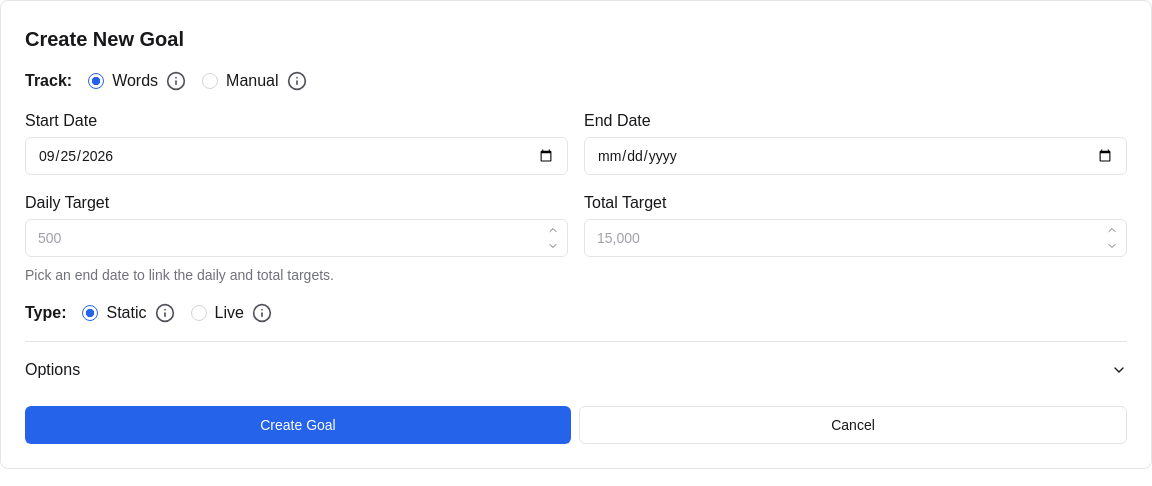
CreateGoalForm › recomputes the daily target when the user edits the total
In the date field labelled "Start Date": (296, 156) [26, 138, 567, 174], type "2026-06-01"
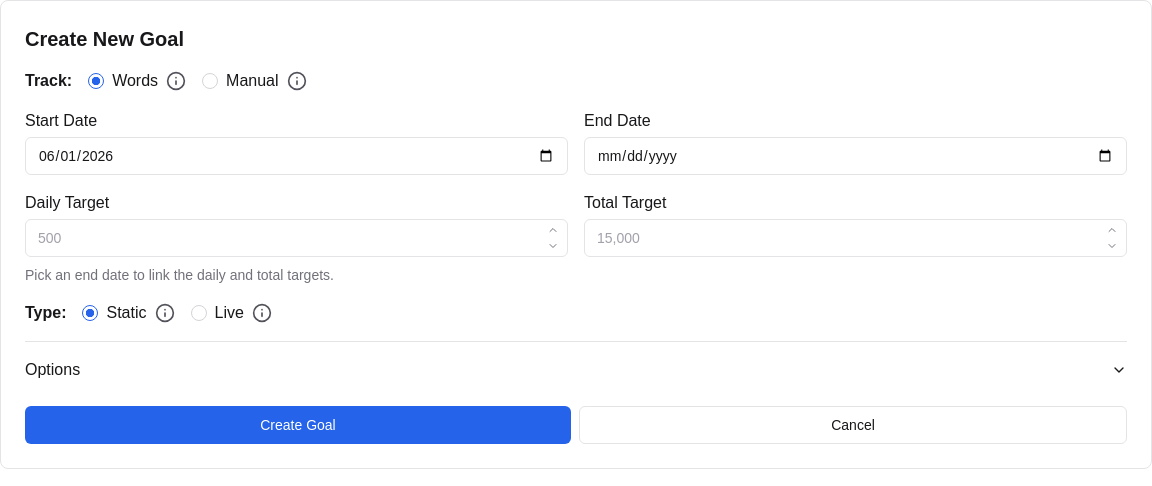
In the date field labelled "End Date": (856, 156) [585, 138, 1126, 174], type "2026-06-10"
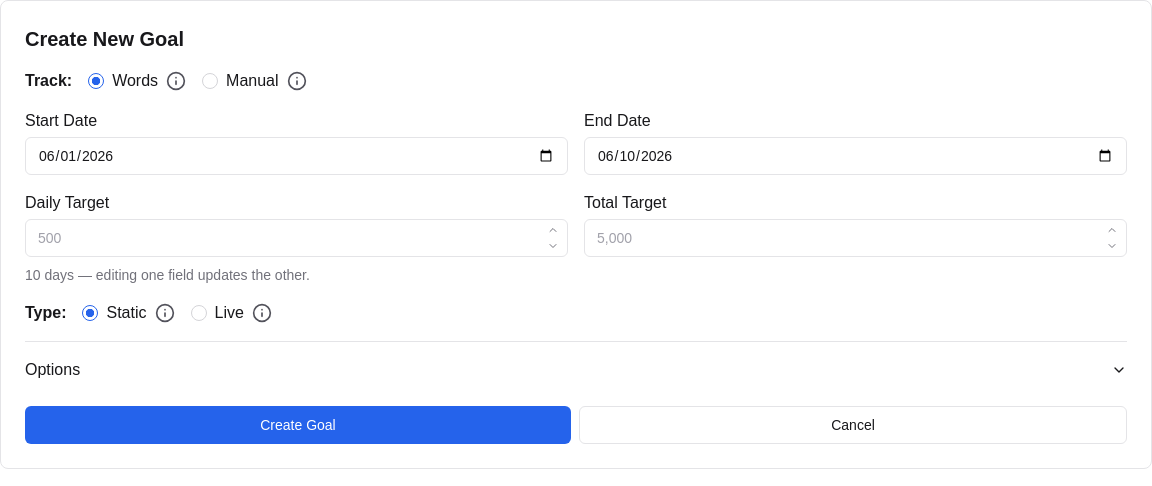
In the field labelled "Total Target": (856, 238) [585, 220, 1126, 256], type "1000"
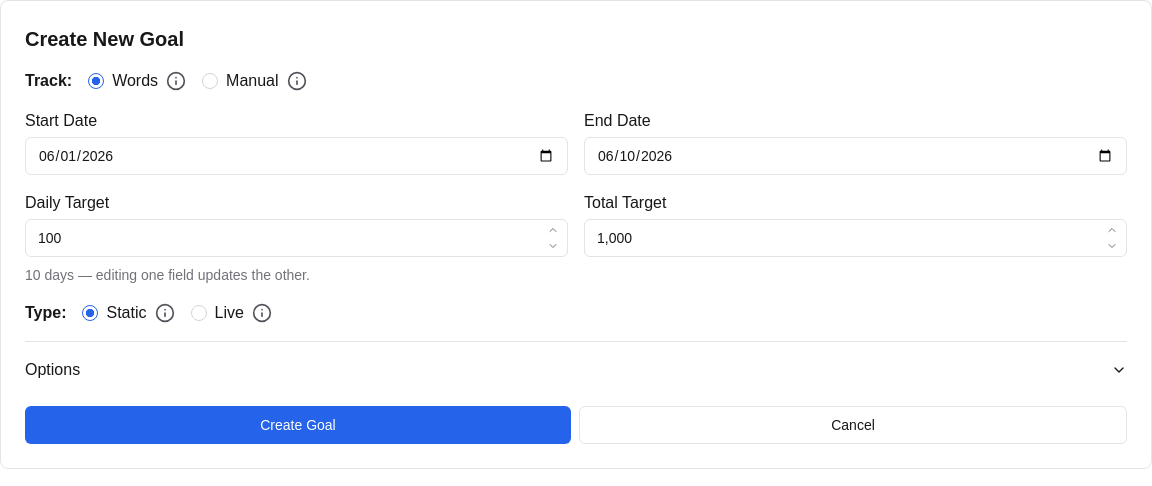
Expected: the field labelled "Daily Target" holds "100", [26, 220, 567, 256]
